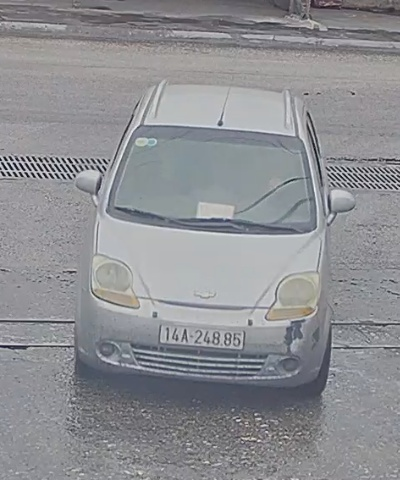vehicle plate: (154, 321, 250, 354)
